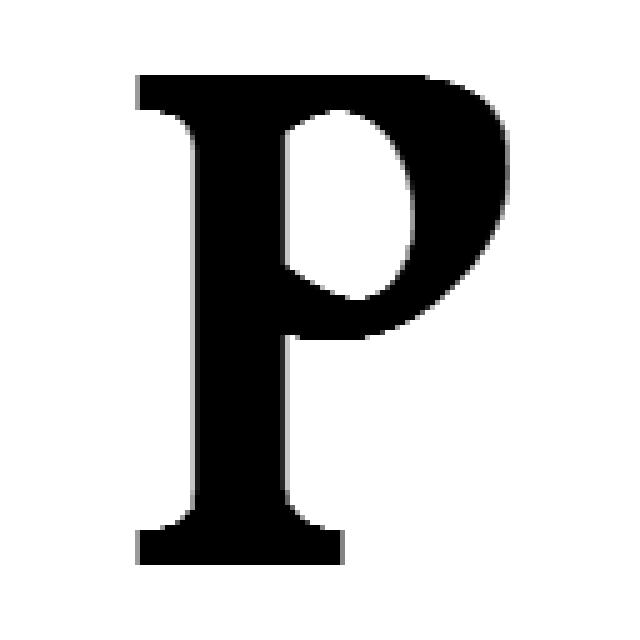P: (135, 75, 510, 570)
